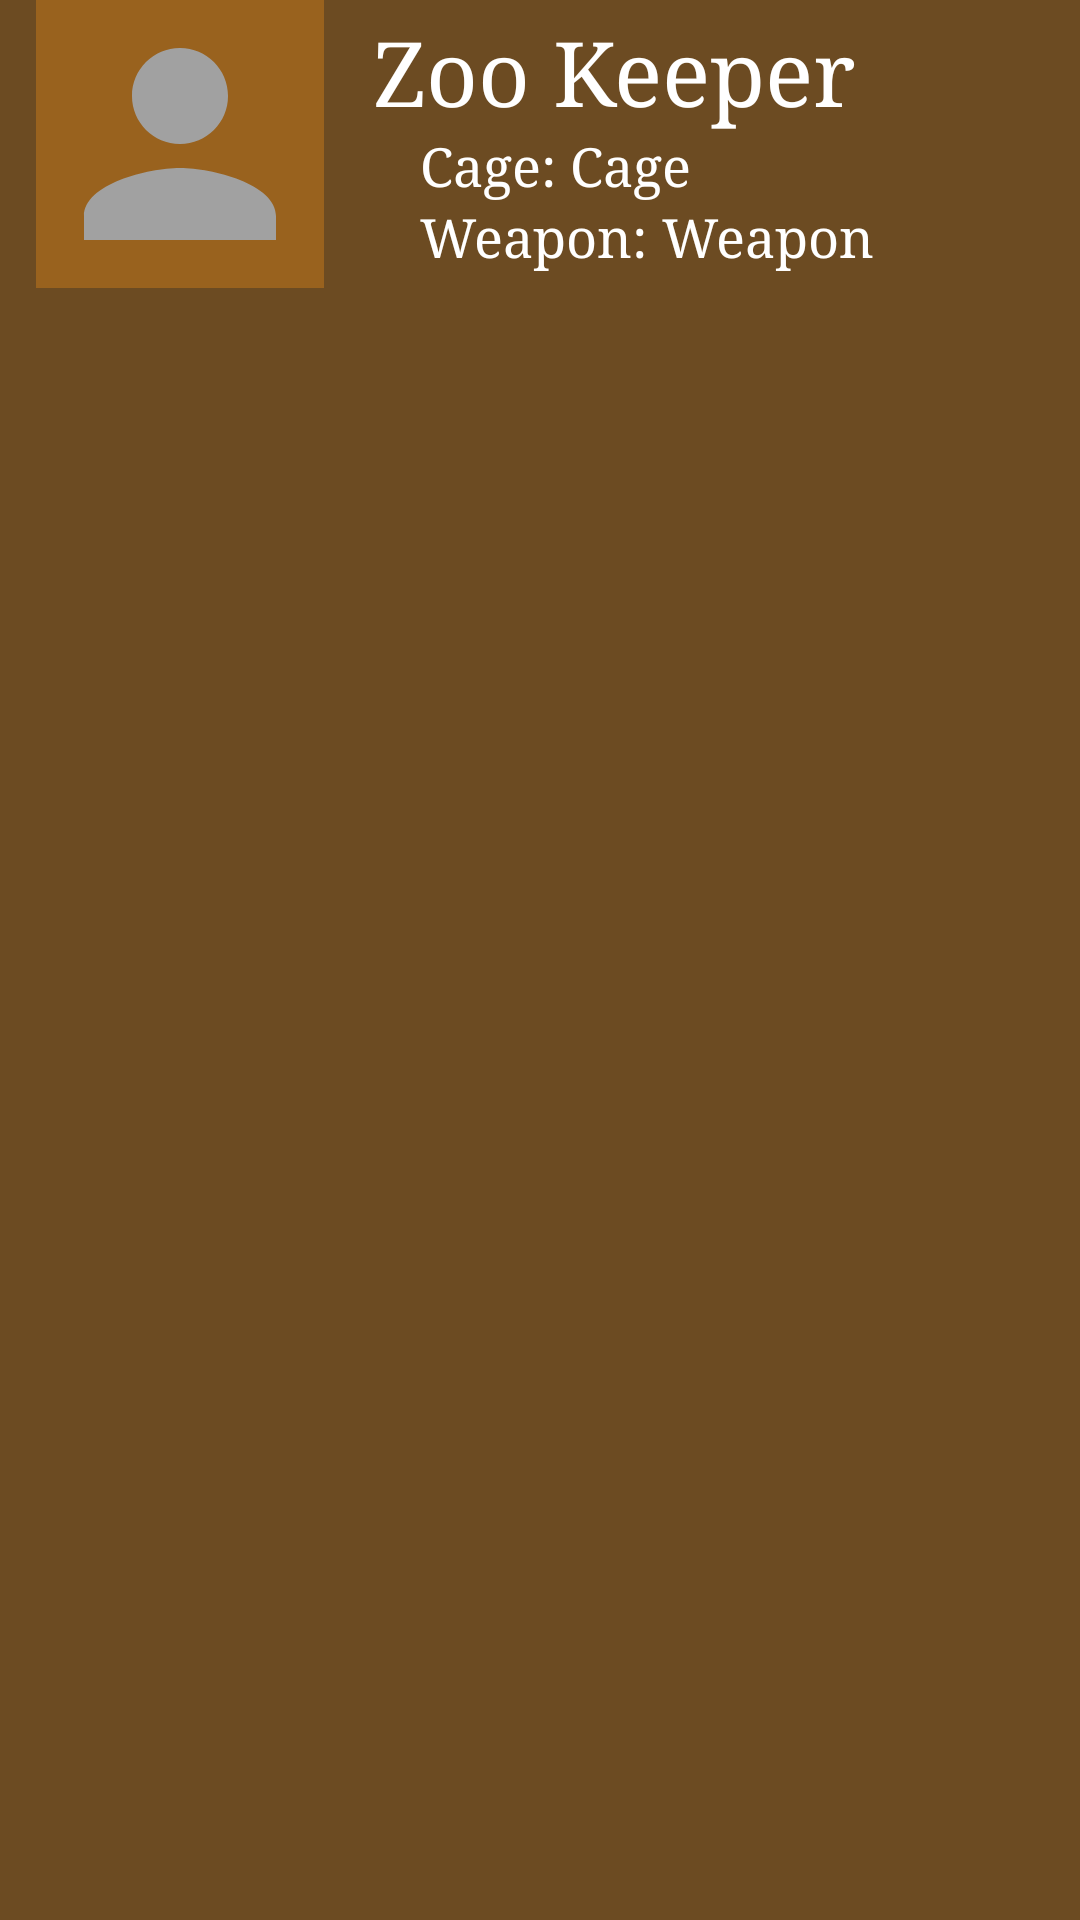

Locate icon controls on the screen. Image size 1080×1920, boxes as (x1, y1, x2, y2).
person: (36, 0, 324, 288)
